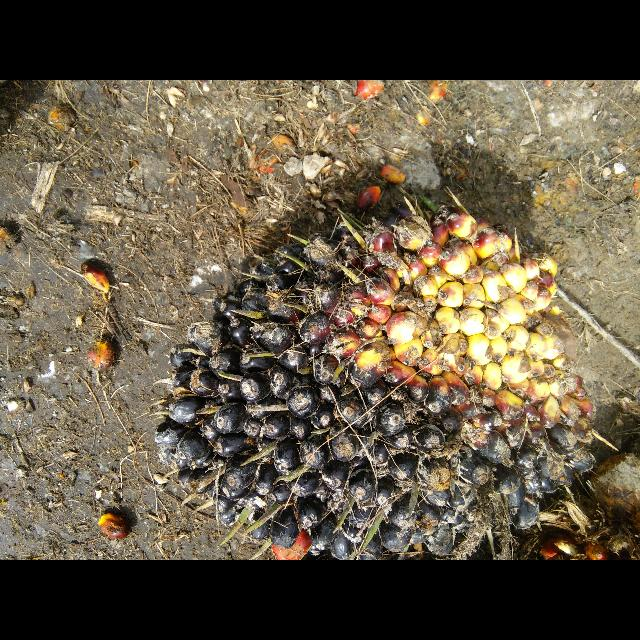Unripe: (154, 216, 598, 560)
